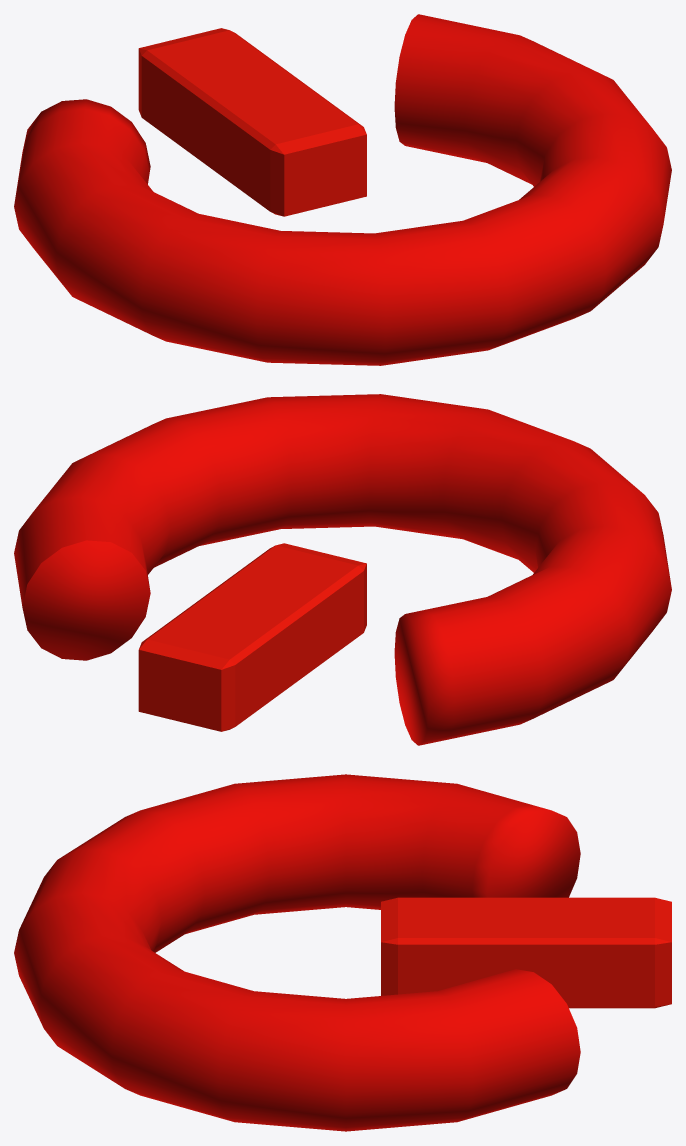
The model's file is exit_button.glb.
The picture shows the model from 3 angles, top to bottom: view 1: azimuth 30°, elevation 25°; view 2: azimuth 150°, elevation 25°; view 3: azimuth 270°, elevation 25°; orthographic projection.
Visible parts, largest first — view 1: Torus, Cube; view 2: Torus, Cube; view 3: Torus, Cube.
Part boxes in pixels (x1=…): Torus: x1=14, y1=14, x2=671, y2=365; Cube: x1=138, y1=28, x2=366, y2=216; Torus: x1=14, y1=394, x2=671, y2=745; Cube: x1=138, y1=543, x2=366, y2=731; Torus: x1=14, y1=774, x2=580, y2=1131; Cube: x1=381, y1=897, x2=671, y2=1008.
Size of the model in its own units: 2.5 by 0.5 by 2.48.
